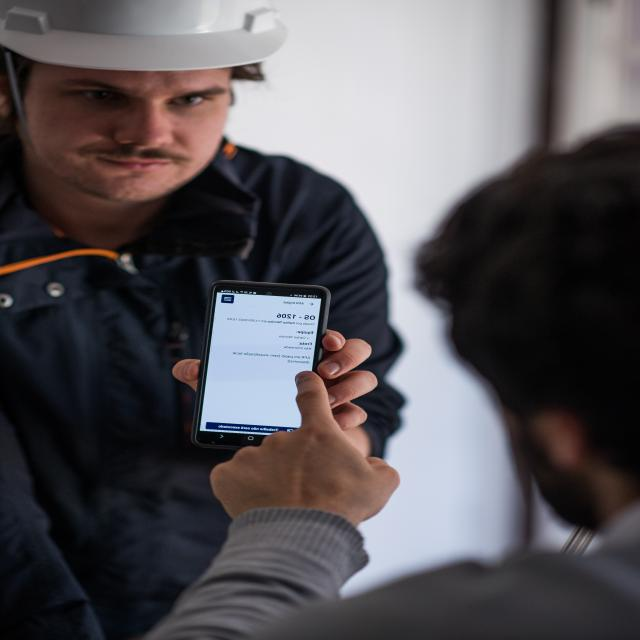capacete: (0, 0, 295, 76)
